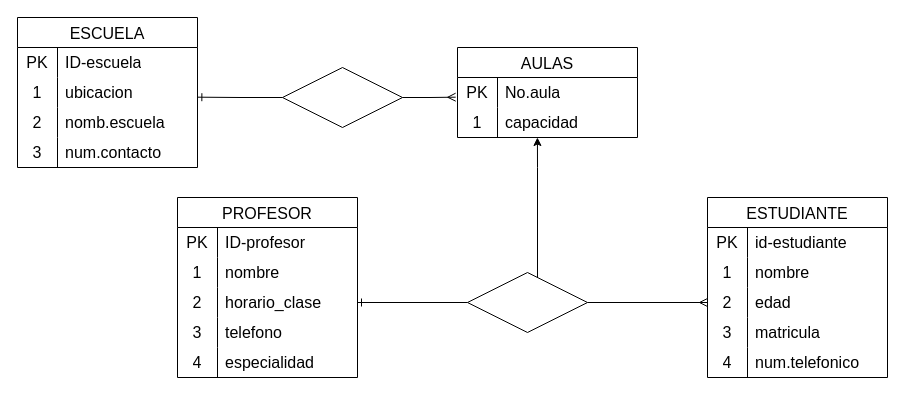
Some shapes in this 905 by 395 pixel diagram are drawn without their labels. Each missing label, with the centre of its shape:
"contiene" goes at pixel 527 302.
"tiene" goes at pixel 342 97.
